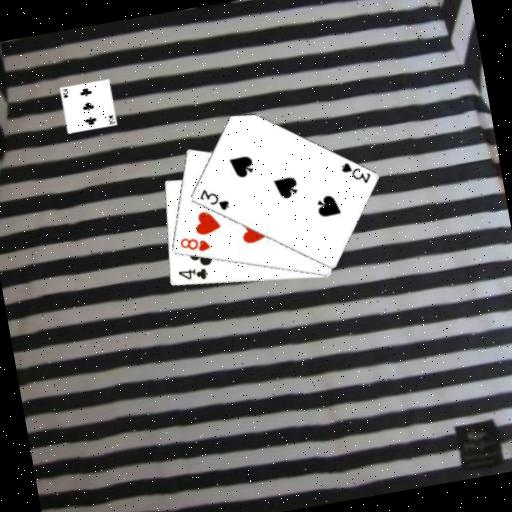3S: (195, 182, 232, 216), (337, 155, 373, 188)
4C: (174, 263, 210, 286)
8H: (175, 231, 212, 257)
